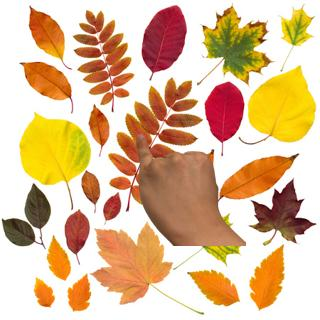FINE: (131, 131, 223, 237)
